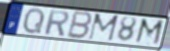8: (116, 16, 138, 44)
B: (65, 10, 95, 41)
M: (133, 17, 166, 48), (87, 13, 120, 43)
Q: (22, 7, 47, 35)
R: (43, 9, 70, 37)
